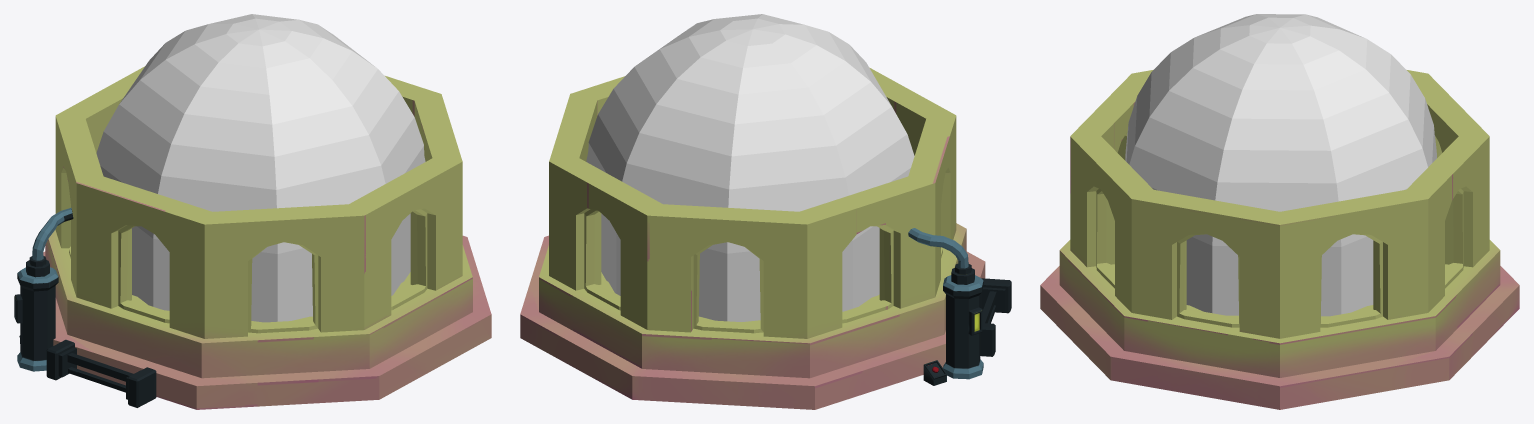
File: bat_ferme.fbx
3 renders of one model, left to right at view 1: azimuth 30°, elevation 25°; view 2: azimuth 150°, elevation 25°; view 3: azimuth 270°, elevation 25°, orthographic.
Parts seen in each view (by area): view 1: ferme_base, champ_ferme, battery_ferme, pipe_ferme; view 2: ferme_base, champ_ferme, battery_ferme, pipe_ferme; view 3: ferme_base, champ_ferme.
Boxes of the visible parts, x1=… form: ferme_base: x1=43, y1=66, x2=491, y2=409; champ_ferme: x1=96, y1=14, x2=425, y2=322; battery_ferme: x1=14, y1=207, x2=73, y2=371; pipe_ferme: x1=46, y1=339, x2=156, y2=407; ferme_base: x1=520, y1=67, x2=985, y2=409; champ_ferme: x1=586, y1=14, x2=914, y2=321; battery_ferme: x1=908, y1=228, x2=983, y2=385; pipe_ferme: x1=980, y1=278, x2=1011, y2=356; ferme_base: x1=1040, y1=70, x2=1519, y2=409; champ_ferme: x1=1125, y1=14, x2=1436, y2=316.
Size of the model in its own units: 1497 by 916 by 1404.
